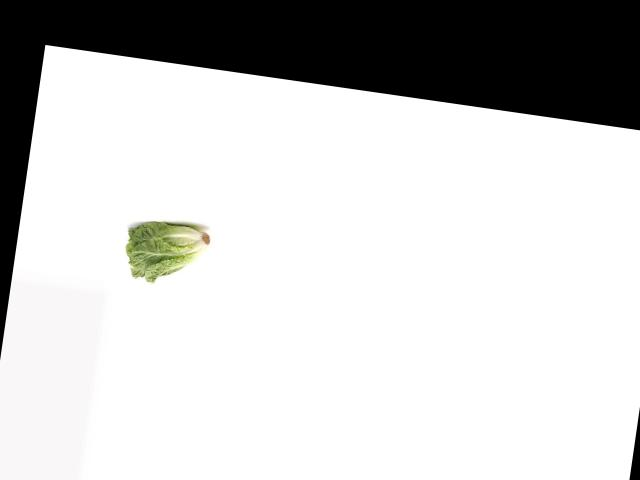lettuce: (121, 215, 216, 290)
